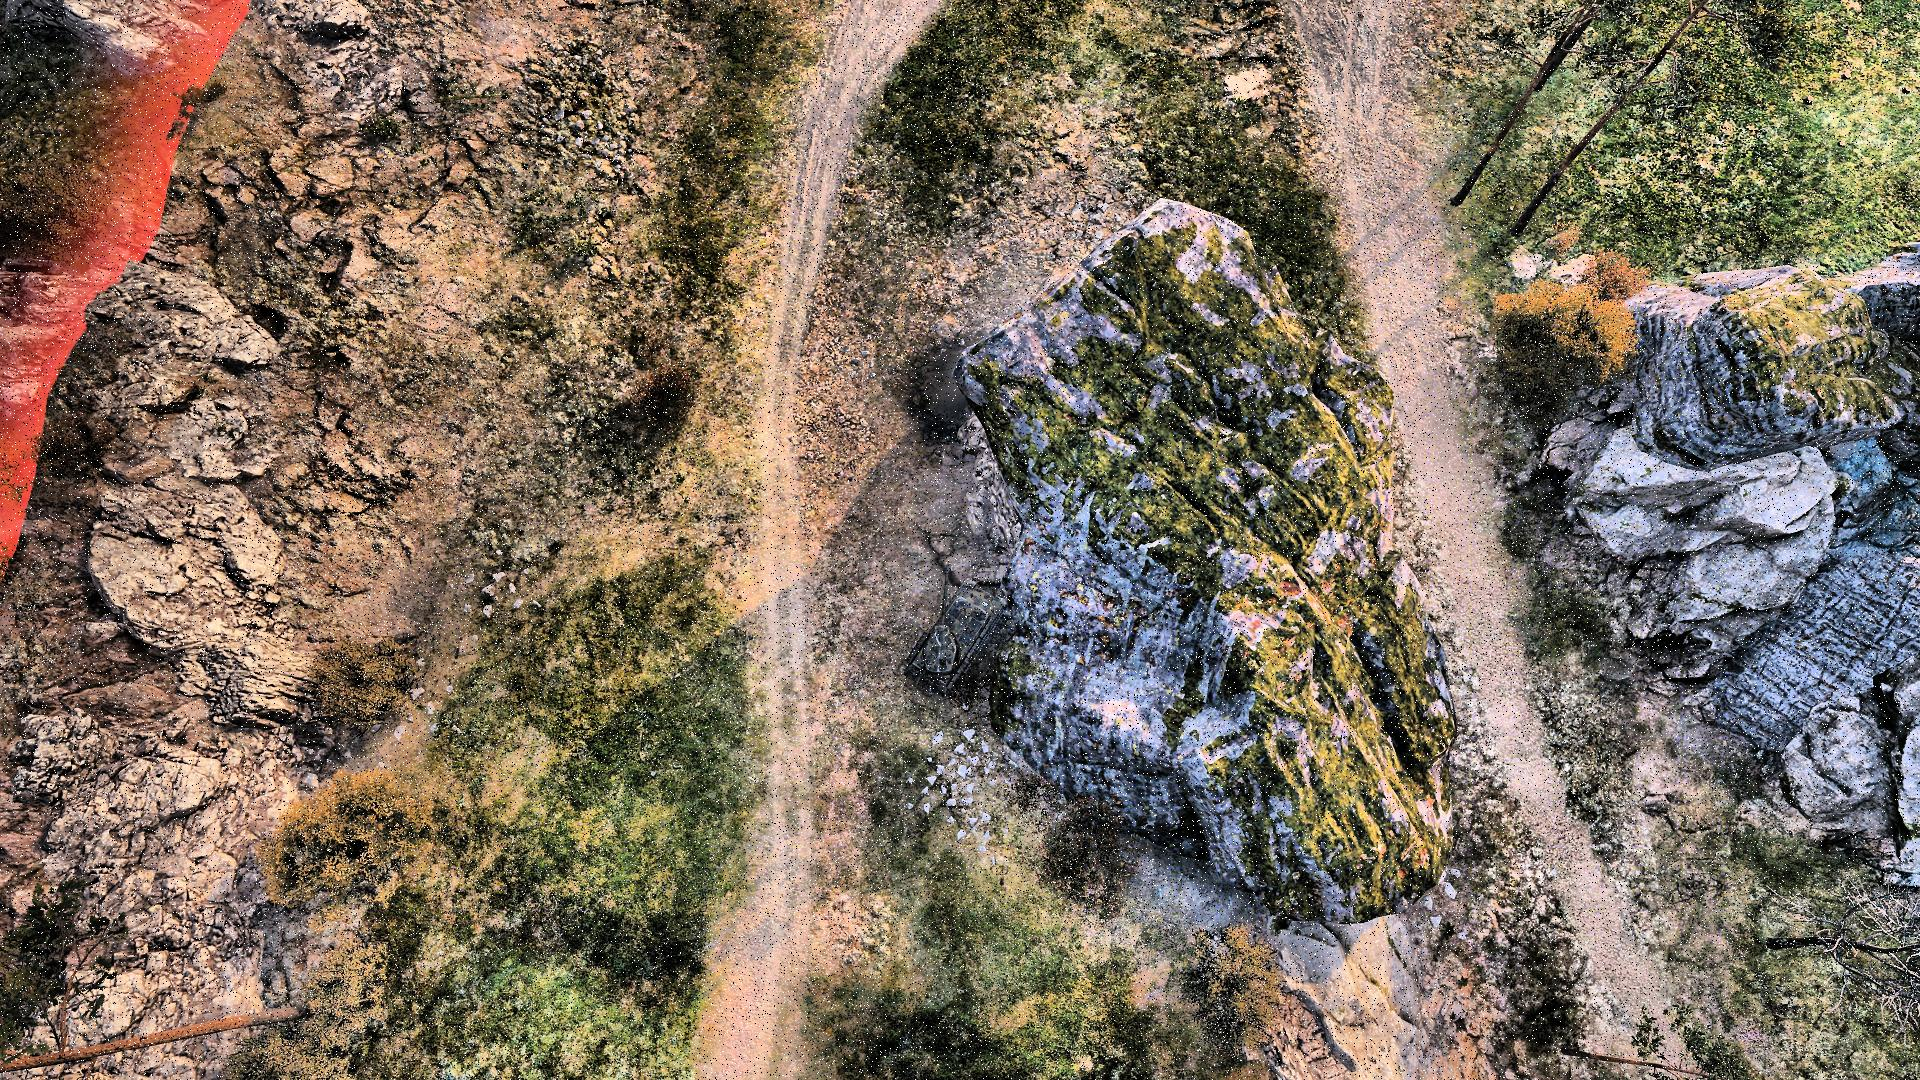military-vehicle: (902, 572, 1005, 702)
